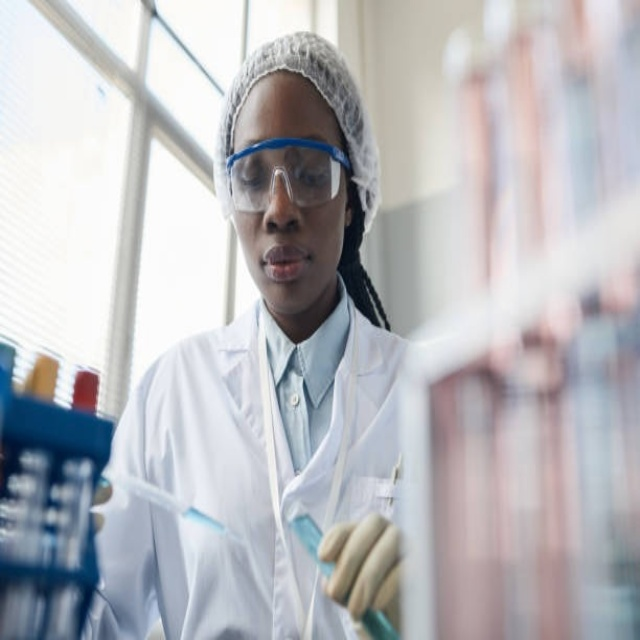Gafas: (225, 142, 351, 212)
Guantes: (316, 510, 399, 629)
Sin_mascara: (257, 234, 319, 292)
